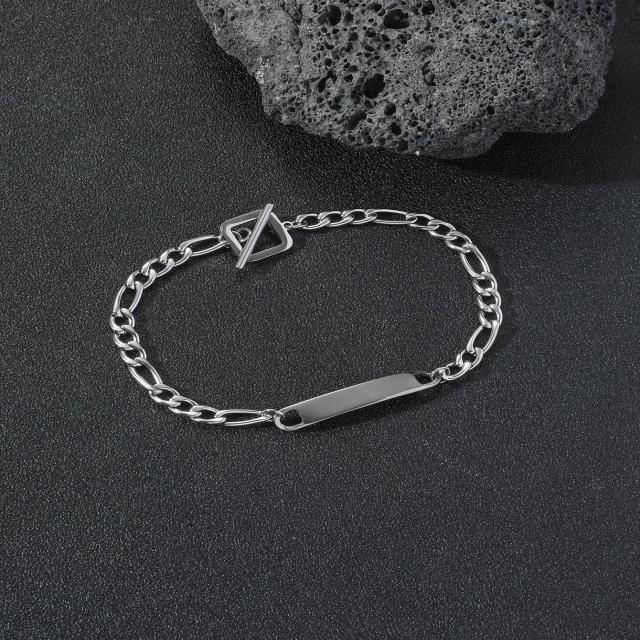bracelet: (29, 158, 634, 500)
